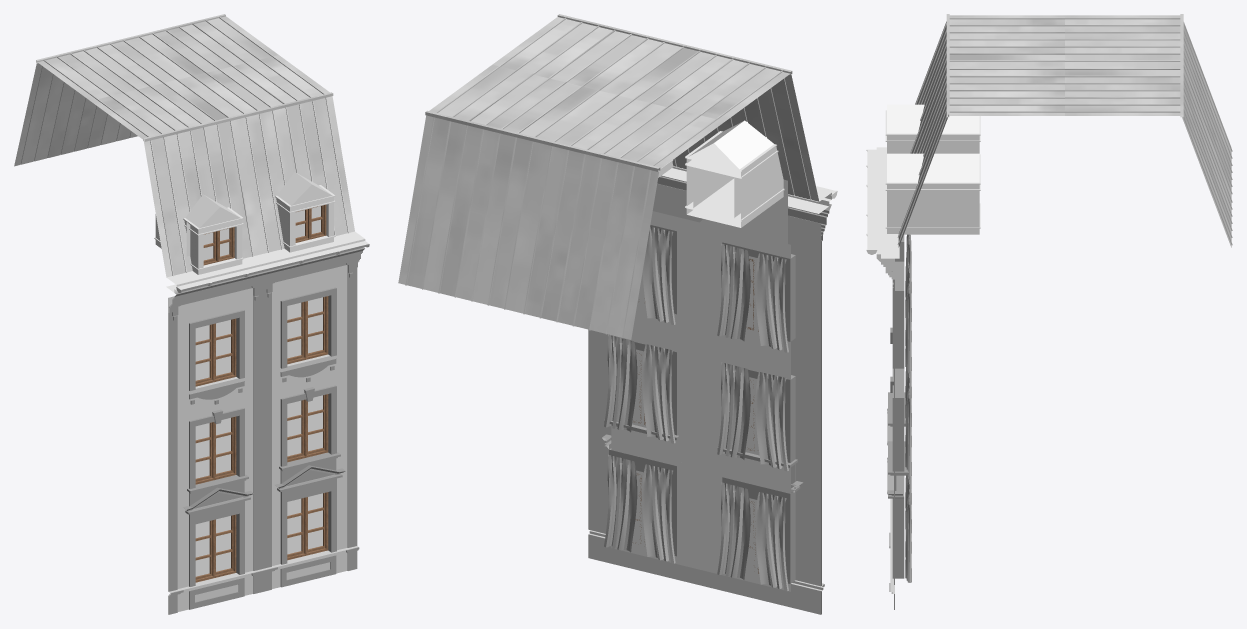
File: Facade_Top_Small.fbx
The picture shows the model from 3 angles, left to right: view 1: azimuth 30°, elevation 25°; view 2: azimuth 150°, elevation 25°; view 3: azimuth 270°, elevation 25°; orthographic projection. The views are drawn at different scales.
Visible parts, largest first — view 1: Facade_Top_Small; view 2: Facade_Top_Small; view 3: Facade_Top_Small.
Boxes of the visible parts, x1,y1,x2,y2 form: Facade_Top_Small: (14,14,369,614); Facade_Top_Small: (398,14,837,614); Facade_Top_Small: (866,14,1232,609).
Bounding box in the file's own units: 5.7 × 13.22 × 8.77.
